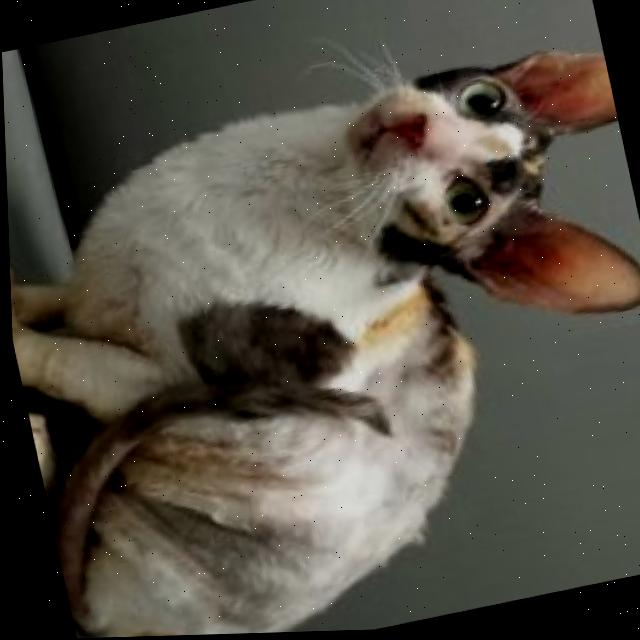Cornish Rex: (1, 34, 640, 640)
